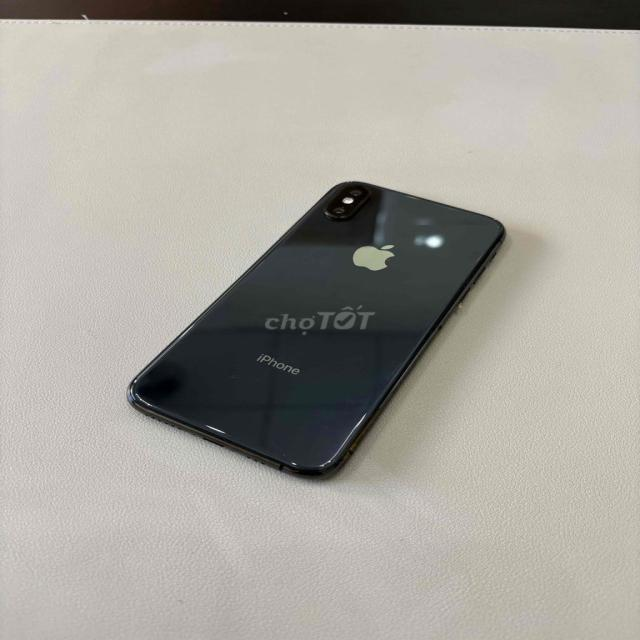scratch: (227, 369, 269, 391), (333, 179, 368, 188), (274, 445, 293, 457)
